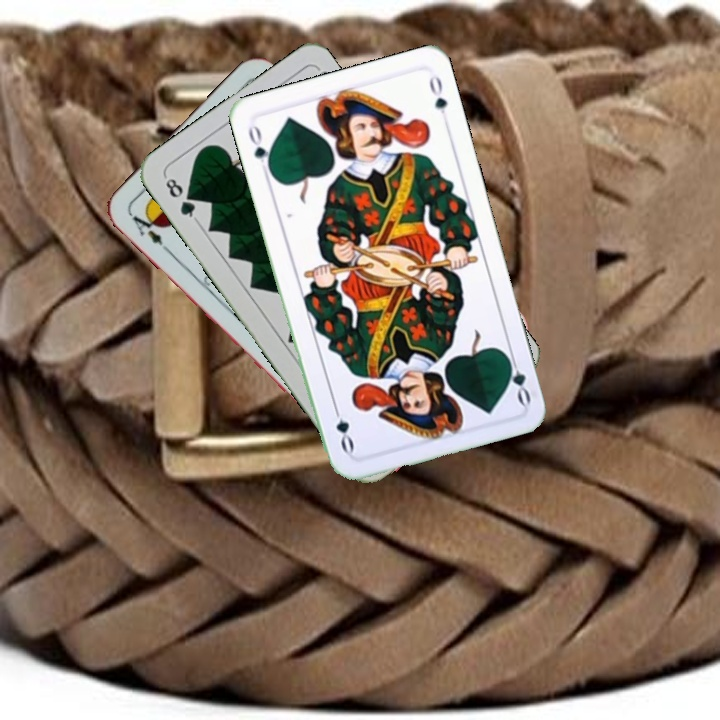EA: (126, 208, 173, 256)
G8: (161, 172, 200, 224)
GO: (501, 348, 534, 407), (244, 121, 274, 178)
